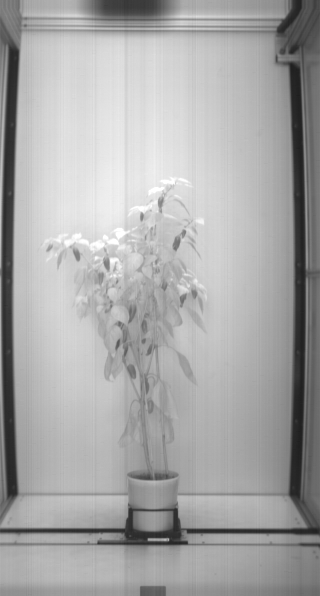bell-pepper fooled_you: (140, 376, 150, 396), (71, 248, 82, 263), (128, 302, 136, 322), (144, 342, 155, 356), (127, 365, 136, 380), (157, 192, 163, 212), (179, 293, 186, 308), (190, 289, 199, 300), (97, 273, 104, 287), (172, 237, 179, 251), (148, 398, 154, 414), (103, 254, 108, 273), (44, 241, 51, 254), (141, 321, 148, 334), (113, 338, 119, 353), (162, 279, 168, 291), (140, 210, 143, 221), (182, 229, 185, 238)
